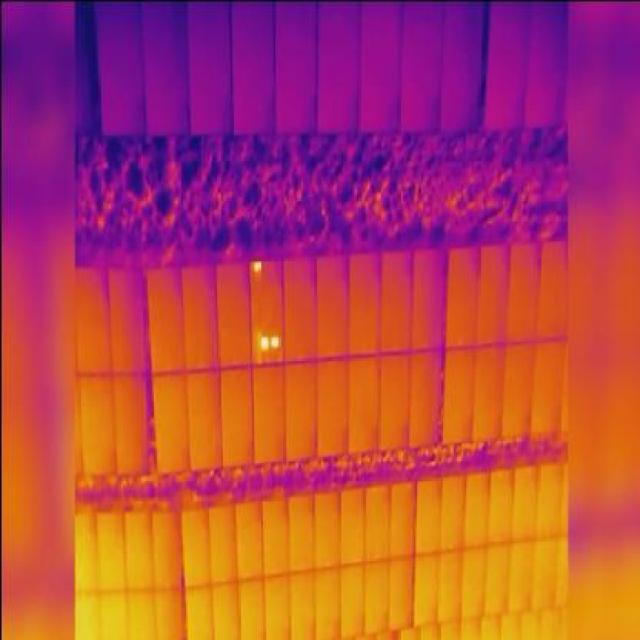hotspot: (258, 334, 270, 348), (268, 331, 278, 347), (252, 257, 260, 275)
